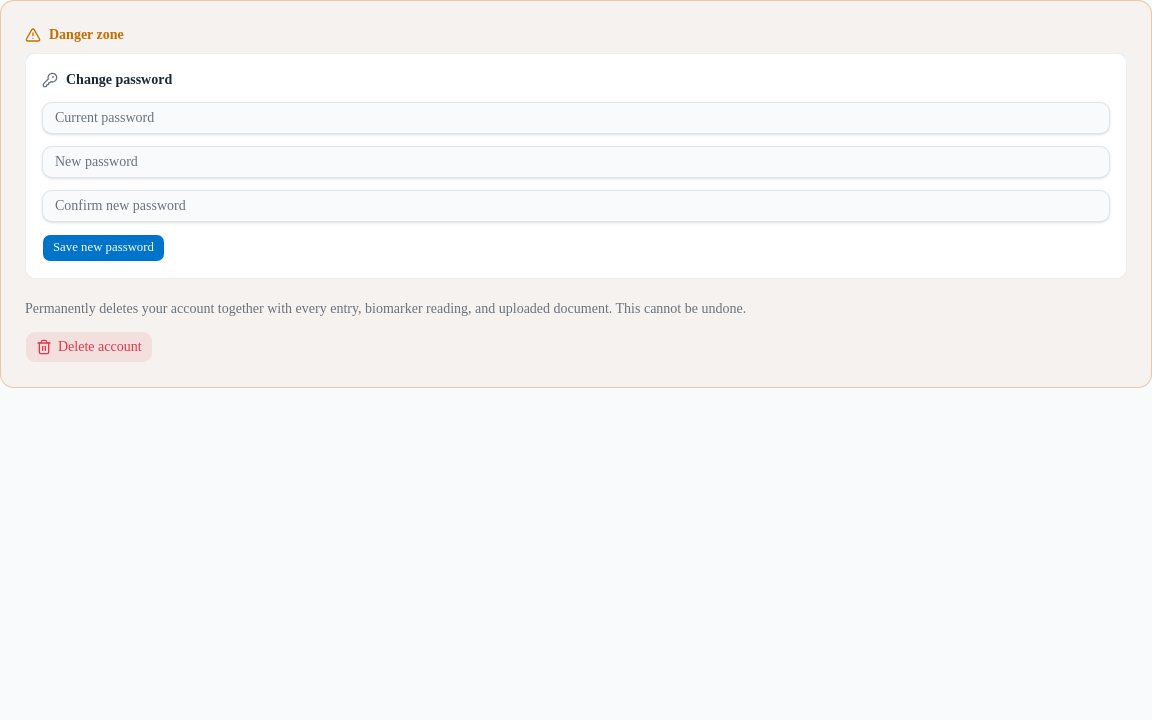
DangerZoneCard (registered) › shows the backend error inside the confirm dialog when deletion fails
Click the button with test id "delete-account". click: (89, 347)
box: [25,331,153,363]
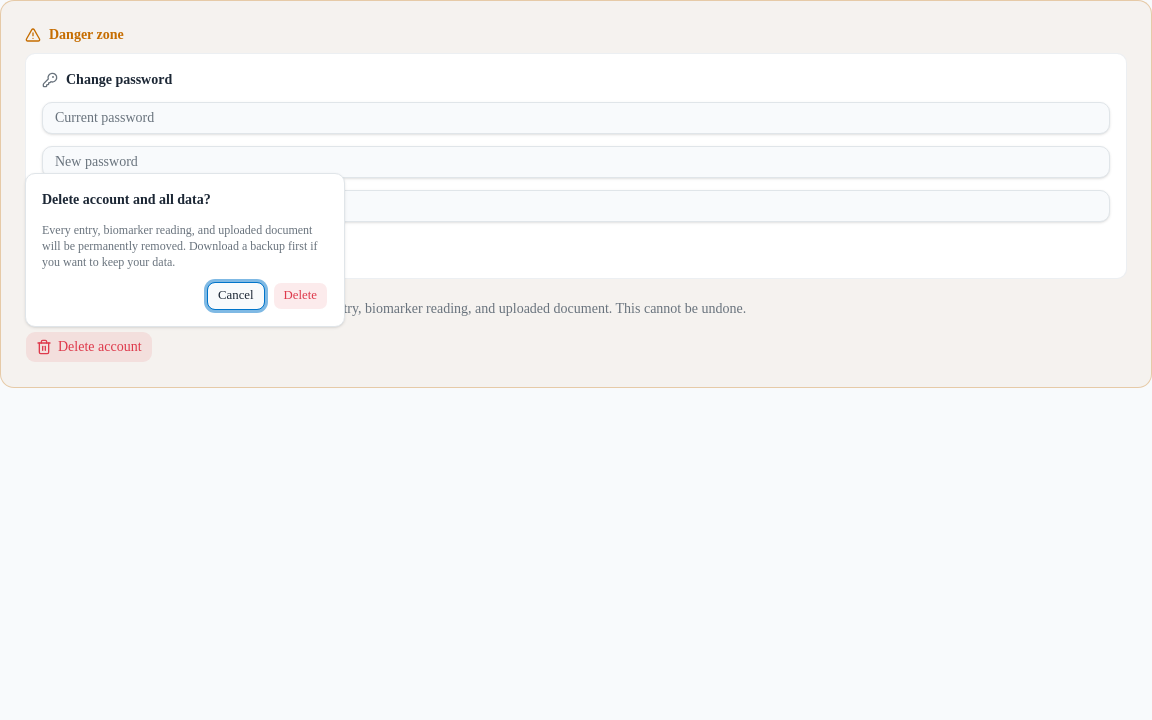
Click the button with test id "delete-account-confirm-button". click: (300, 296)
box: [273,282,328,310]
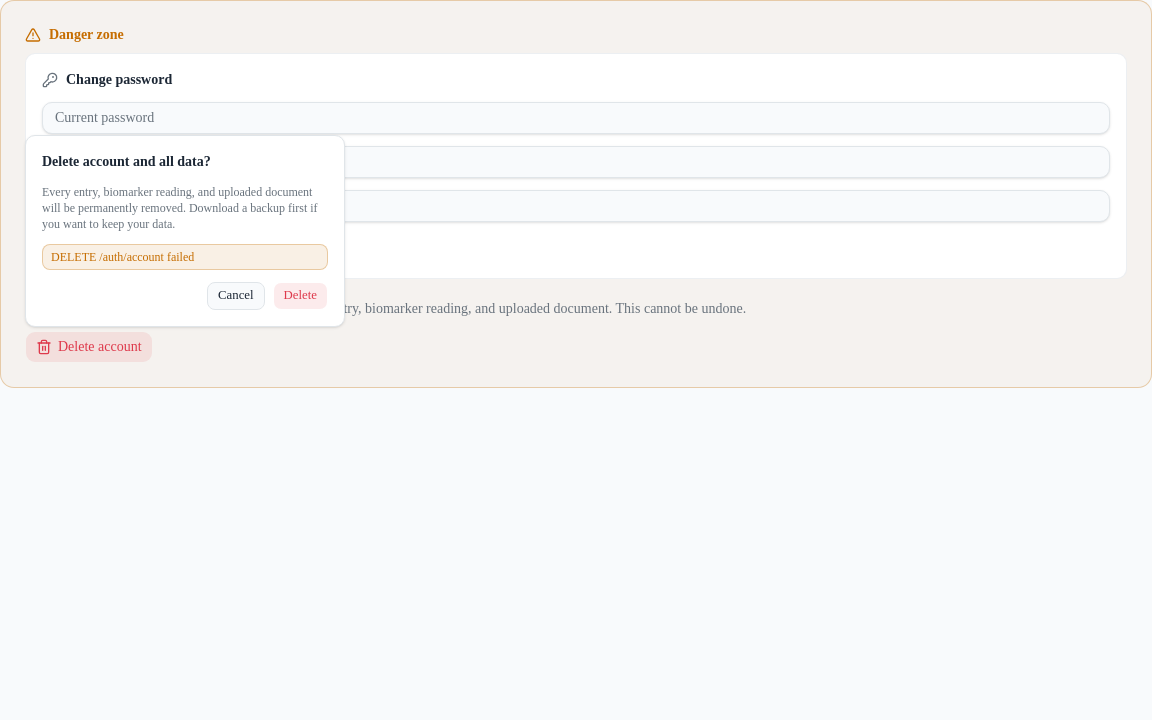
expect the text "DELETE /auth/account failed" is shown: met, box [42,244,328,270]
